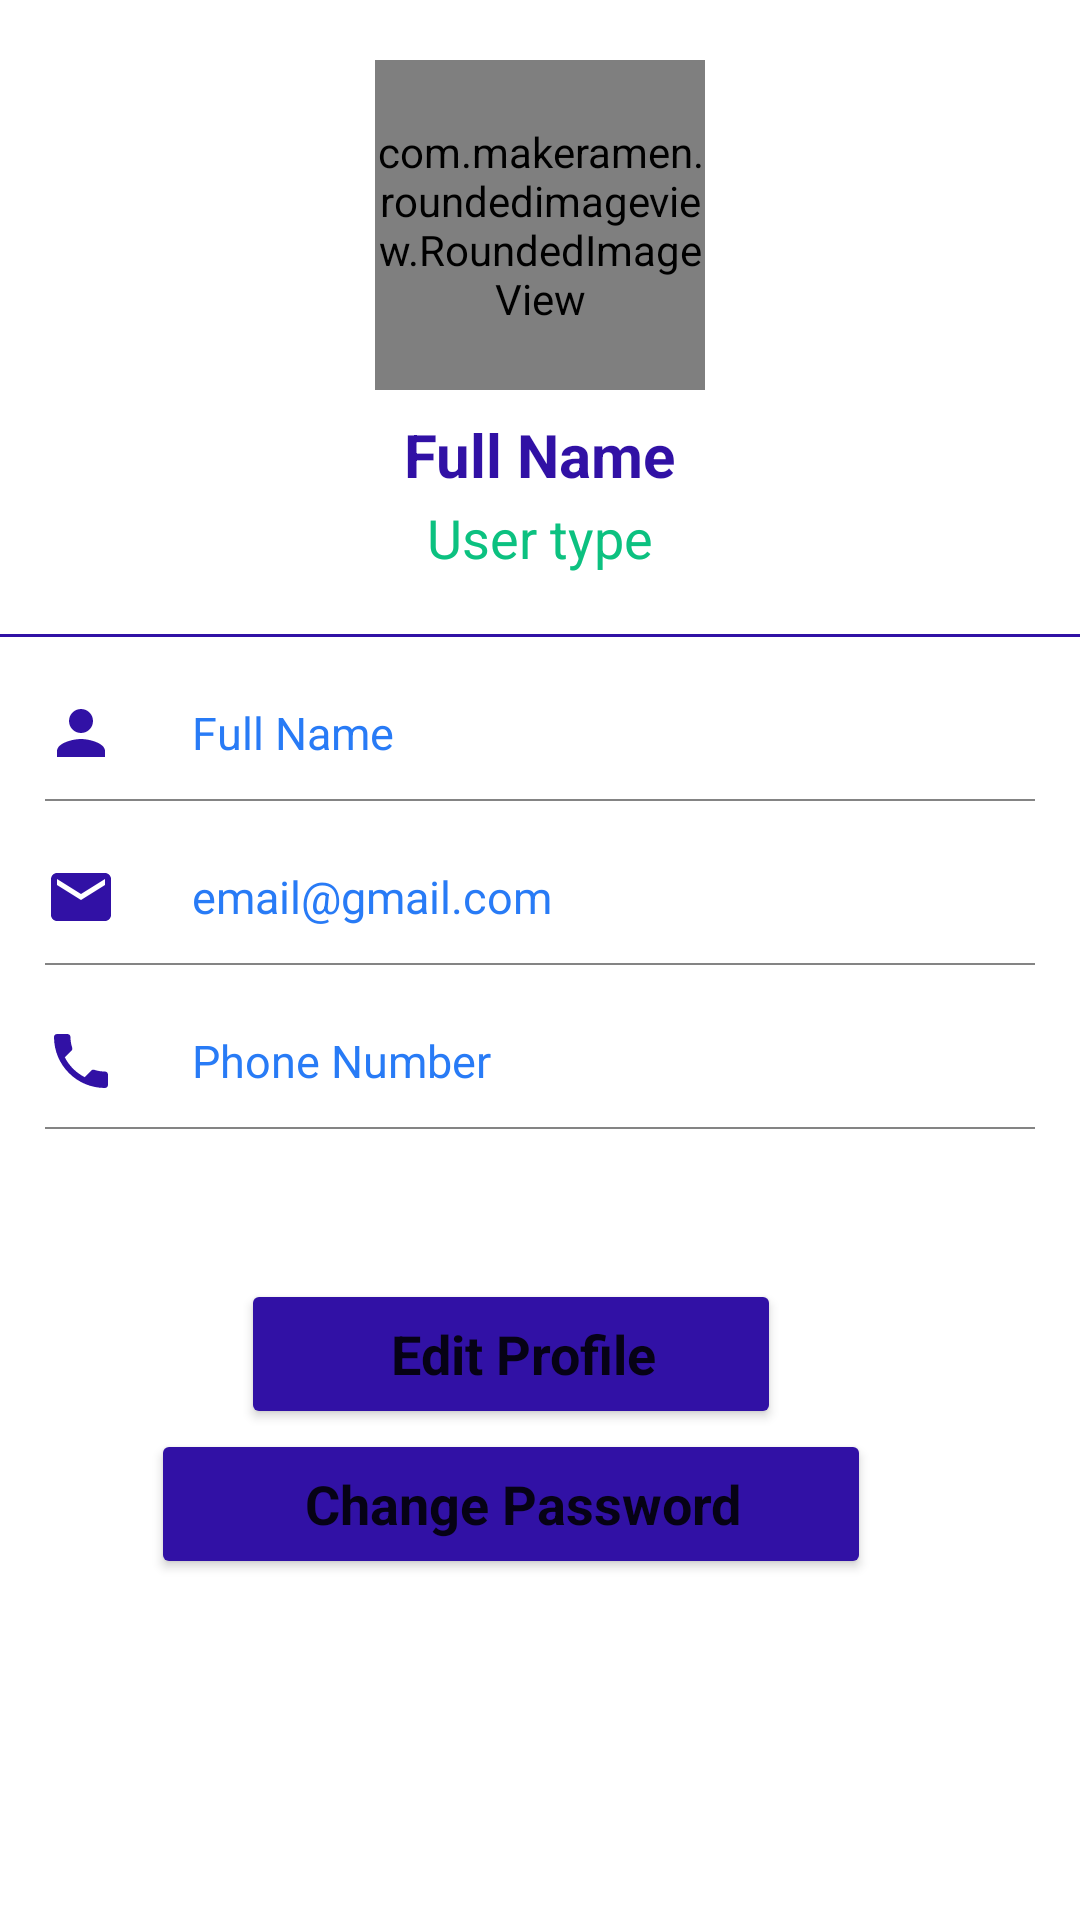

Named icons in this screenshot (1080*1920) and their centers, (x,y):
person: (81,733)
